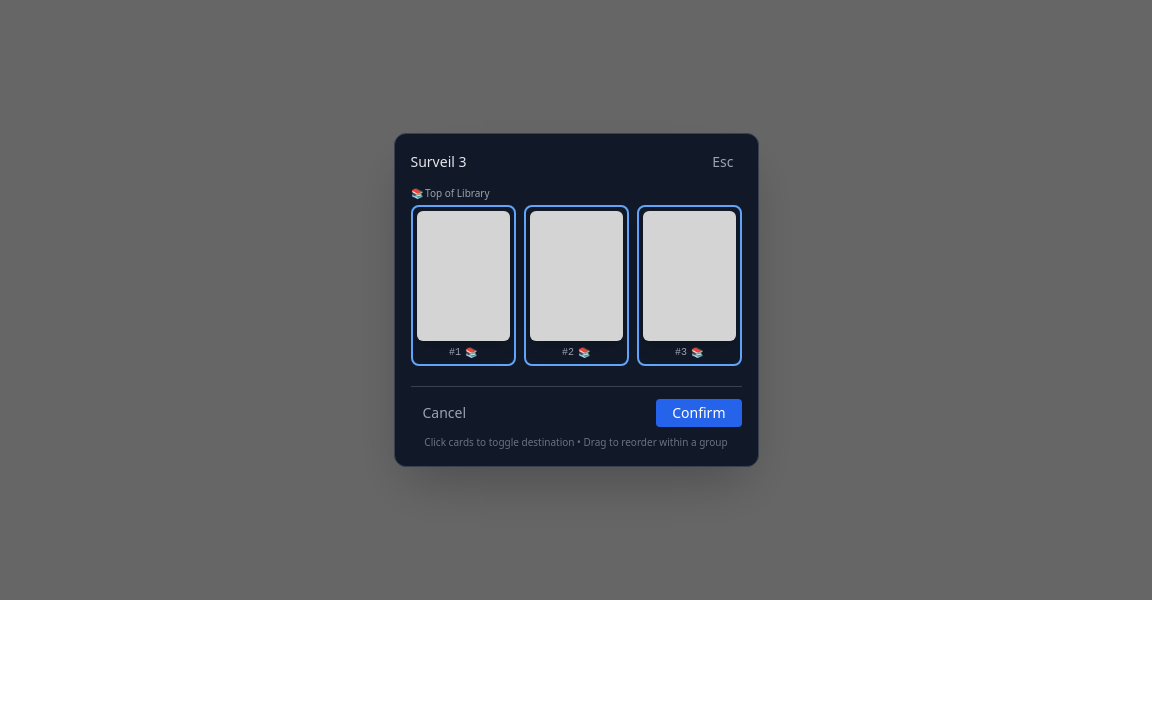
PeekModal › surveil mode › click moves card to graveyard group
Click the button named "img" at (463,286), box 410,205 -> 516,366
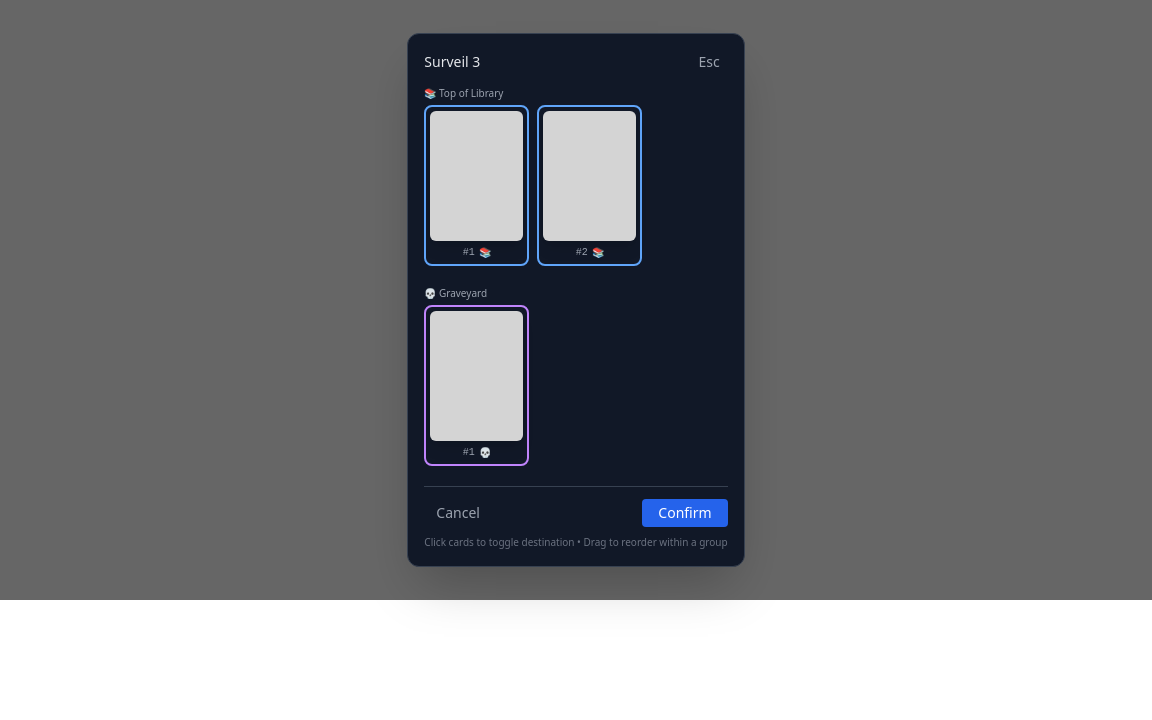
Result: the text "💀 Graveyard" is shown at 424,286 -> 487,300
